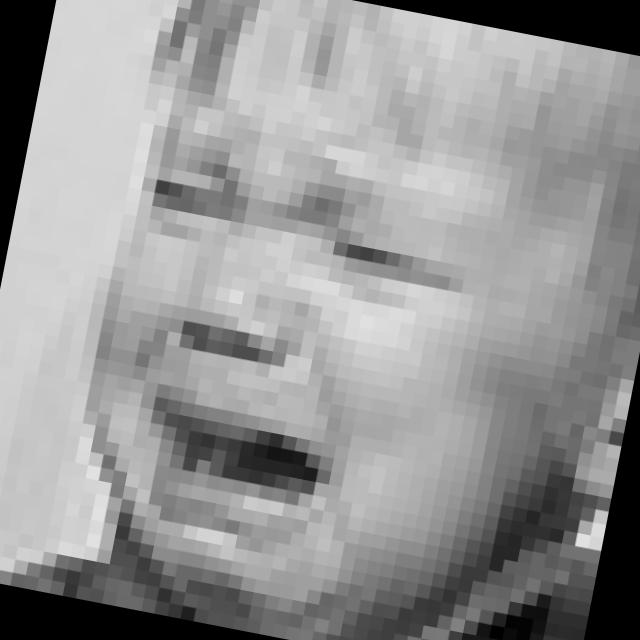sad: (88, 120, 506, 592)
